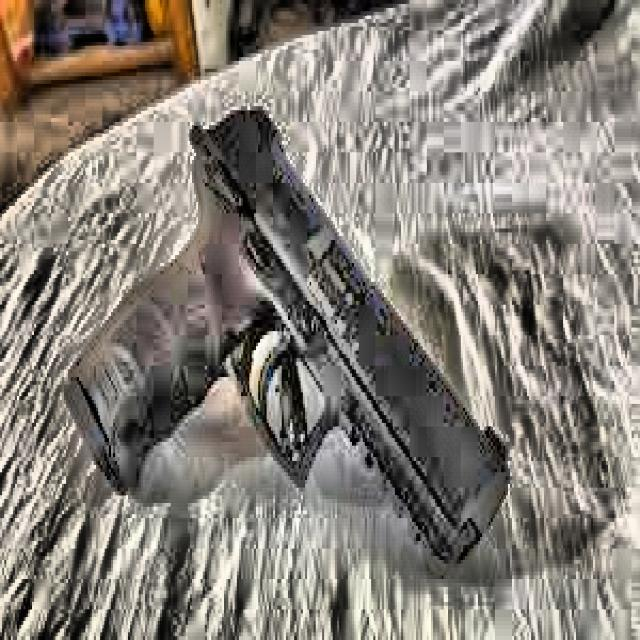HKVP9: (61, 100, 510, 580)
